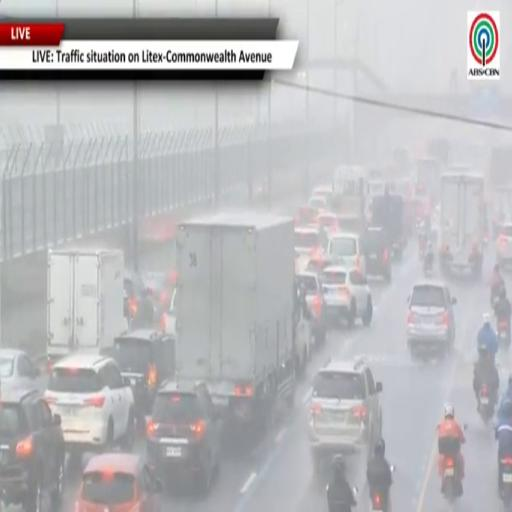car: (45, 352, 134, 454), (147, 381, 222, 493), (309, 358, 382, 471), (0, 389, 65, 511), (113, 330, 175, 421), (74, 453, 162, 511), (408, 280, 456, 355), (321, 265, 372, 327), (297, 271, 326, 346), (124, 270, 157, 328), (0, 348, 40, 390), (327, 233, 366, 275), (364, 228, 392, 282), (143, 272, 174, 316), (294, 227, 323, 271), (160, 288, 176, 339), (305, 253, 342, 274), (496, 222, 511, 265), (294, 205, 317, 227), (317, 212, 338, 233), (312, 184, 333, 201), (309, 196, 329, 212)
motorcycle: (439, 438, 462, 505), (442, 456, 462, 503), (479, 383, 494, 424), (500, 456, 511, 510), (370, 489, 390, 511), (497, 319, 511, 350), (423, 253, 433, 277), (418, 234, 426, 261), (330, 503, 346, 511)
truck: (176, 212, 296, 430), (47, 249, 126, 369), (439, 170, 485, 278), (369, 194, 406, 260), (333, 166, 368, 234), (416, 157, 443, 207), (489, 147, 511, 188)
